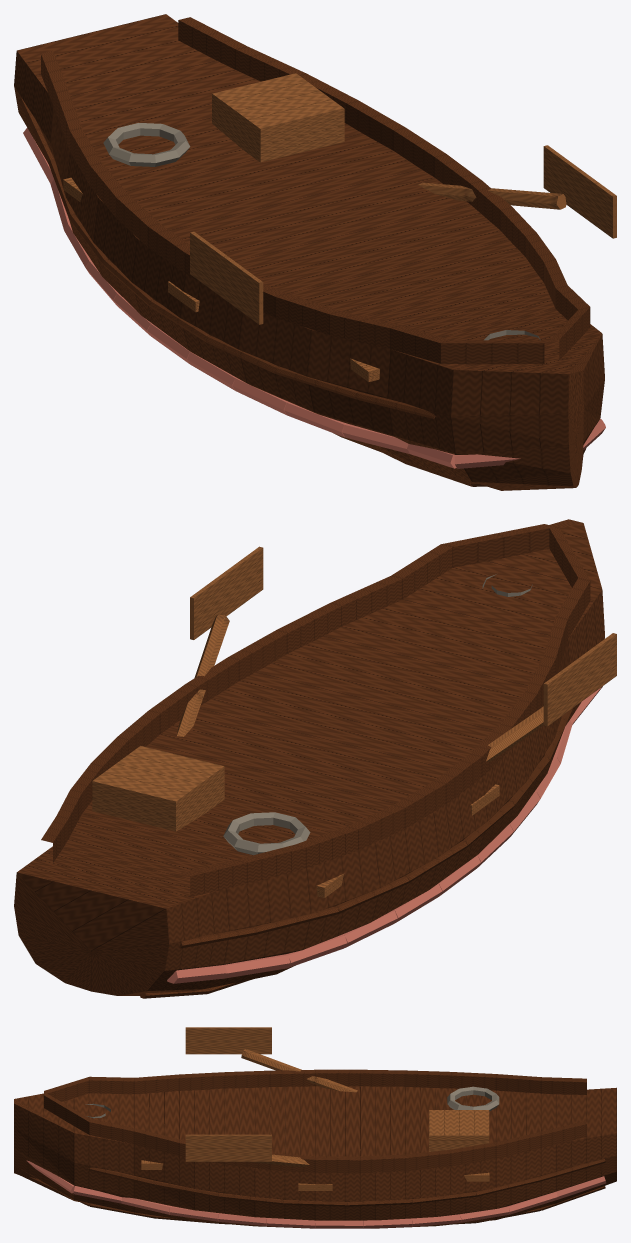
File: pirate-port-and-tall-ships-jolly-boat-1ff492b2__30153.glb
3 views of the same model, one above another, from view 1: azimuth 30°, elevation 25°; view 2: azimuth 150°, elevation 25°; view 3: azimuth 270°, elevation 25° (orthographic). The views are drawn at different scales.
Visible parts, largest first — view 1: jolly-boat; view 2: jolly-boat; view 3: jolly-boat.
Part boxes in pixels (left/top/right/bottom): jolly-boat: left=14, top=14, right=616, bottom=490; jolly-boat: left=14, top=519, right=616, bottom=998; jolly-boat: left=14, top=1027, right=616, bottom=1228.
Bounding box in the file's own units: 1.79 × 0.9572 × 4.2.
4 materials, 2 textured.
